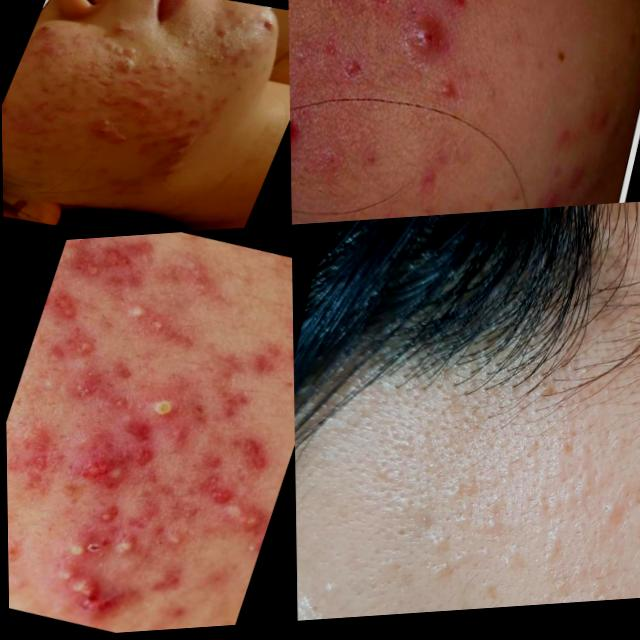8: (118, 95, 162, 127), (144, 52, 182, 80), (110, 56, 144, 81), (111, 12, 143, 37), (96, 87, 122, 110), (256, 17, 284, 36), (212, 95, 233, 118), (123, 77, 148, 93), (183, 117, 202, 130)
9: (139, 384, 188, 429), (103, 530, 146, 563), (54, 535, 94, 568), (434, 76, 466, 113), (142, 310, 173, 340), (122, 298, 152, 327)
blackheads: (44, 559, 129, 625), (78, 452, 143, 502), (210, 496, 269, 547), (93, 235, 147, 284), (191, 466, 239, 510), (408, 158, 448, 210), (117, 412, 163, 454), (290, 92, 315, 163), (217, 385, 256, 427), (46, 286, 90, 323), (88, 115, 137, 147), (162, 126, 199, 162), (118, 507, 159, 539), (22, 448, 55, 474), (95, 37, 126, 61), (117, 41, 145, 61)
pustules: (393, 4, 464, 87)
